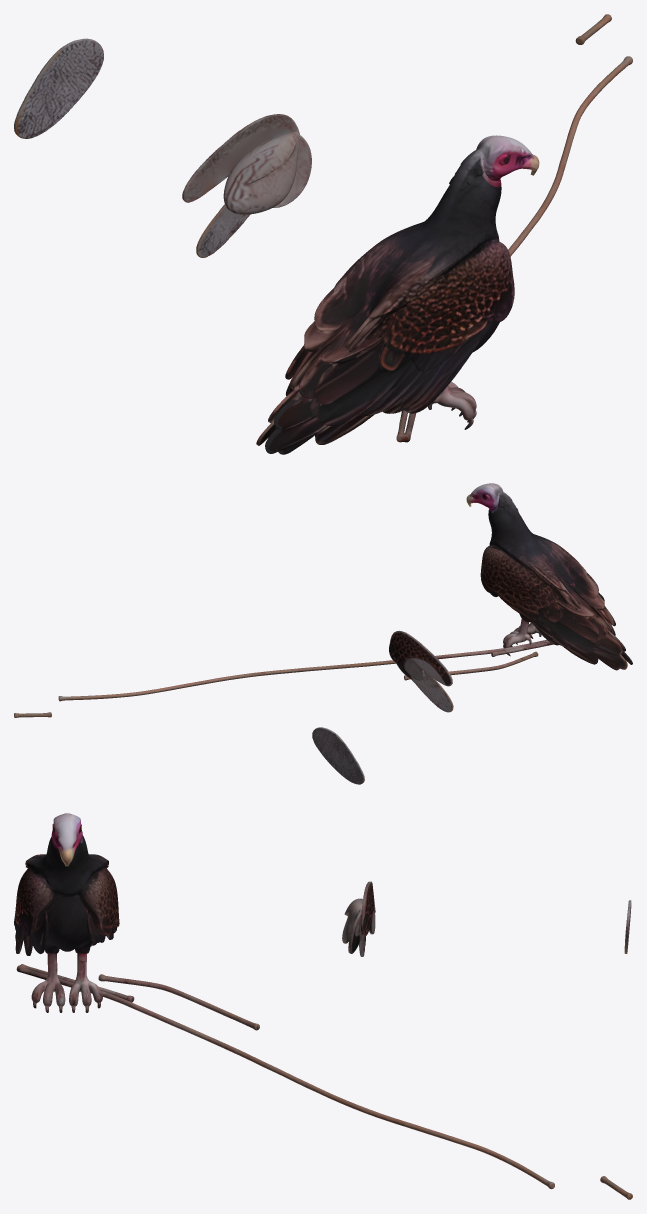
The model's file is n2__turkeyvulture.glb.
3 views of the same model, one above another, from view 1: azimuth 30°, elevation 25°; view 2: azimuth 150°, elevation 25°; view 3: azimuth 270°, elevation 25° (orthographic). The views are drawn at different scales.
Visible parts, largest first — view 1: Object_3, Object_2; view 2: Object_3, Object_2; view 3: Object_2, Object_3.
Boxes of the visible parts, box(x1,y1,x2,y2) form: Object_3: box(14, 38, 539, 454); Object_2: box(183, 14, 632, 453); Object_3: box(250, 483, 630, 784); Object_2: box(14, 547, 632, 717); Object_2: box(15, 881, 632, 1199); Object_3: box(14, 813, 631, 1093).
Bounding box in the file's own units: 0.8723 × 0.3166 × 0.8319.
Materials: 1 (1 with a texture image).
